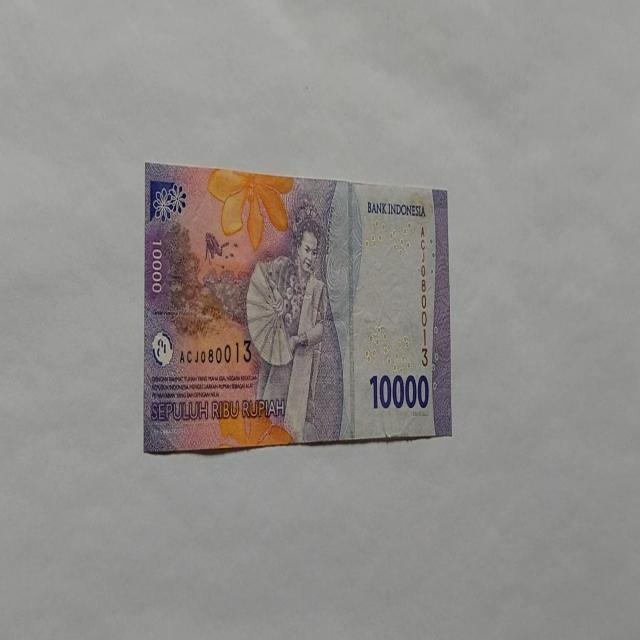sepuluh ribu rupiah: (142, 162, 452, 454)
